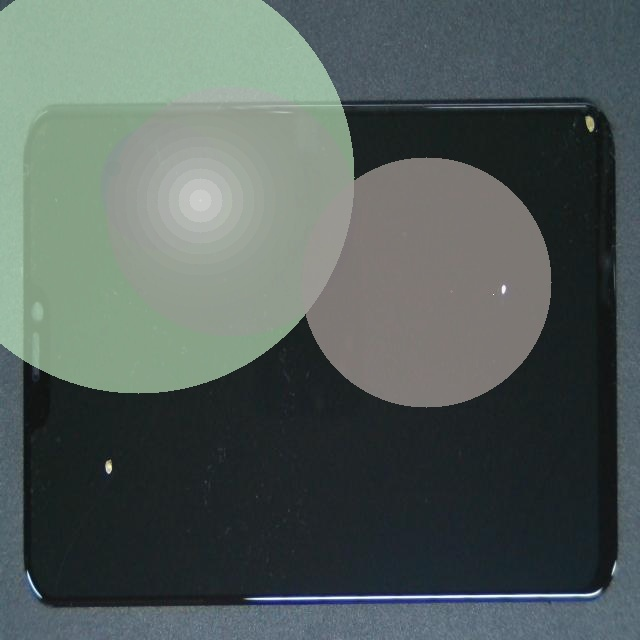stain: (245, 169, 640, 506)
